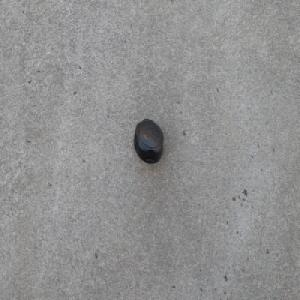FuelCap: (133, 118, 164, 164)
